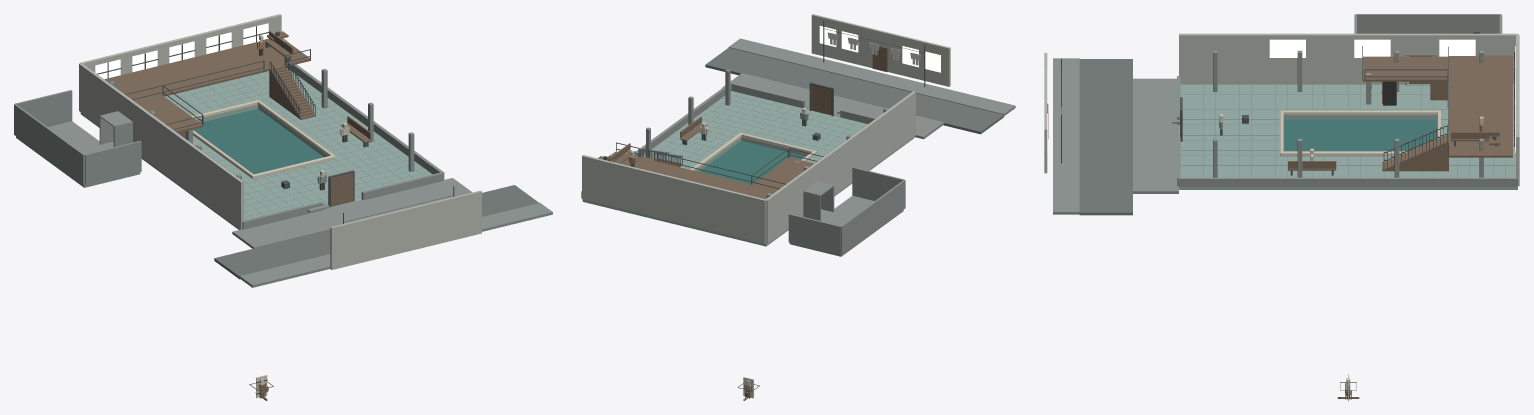
File: bath-faceless.glb
The picture shows the model from 3 angles, left to right: view 1: azimuth 30°, elevation 25°; view 2: azimuth 150°, elevation 25°; view 3: azimuth 270°, elevation 25°; orthographic projection. The views are drawn at different scales.
Visible parts, largest first — view 1: BathFloor, WestWall, LaundryFacade_Surface, PoolWater, FrontPavement, GalleryMainDeckSurface, ExteriorStreet, NorthWall, FarPavement, ServiceYardWestWall_Surface, ServiceYardSouthWall_Surface, EastCutawayWall (+8 smaller); view 2: NorthWall, BathFloor, WestWall, ExteriorStreet, LaundryFacade_Surface, FarPavement, PoolWater, FrontPavement, ServiceYardWestWall_Surface, ServiceYardNorthWall_Surface, GalleryMainDeckSurface, ServiceYardSouthWall_Surface (+6 smaller); view 3: BathFloor, WestWall, ExteriorStreet, FrontPavement, PoolWater, GalleryMainDeckSurface, FarPavement, EastCutawayWall, ServiceYardWestWall_Surface, GalleryWestCatwalkSurface, WorkshopCeilingSurface, PoolRim (+7 smaller).
Part boxes in pixels (x1,y1,x2,y2): BathFloor: [80, 68, 431, 229]; WestWall: [79, 63, 243, 229]; LaundryFacade_Surface: [330, 190, 481, 269]; PoolWater: [193, 109, 323, 174]; FrontPavement: [232, 178, 472, 248]; GalleryMainDeckSurface: [132, 38, 310, 96]; ExteriorStreet: [214, 185, 538, 279]; NorthWall: [79, 14, 281, 74]; FarPavement: [239, 203, 552, 287]; ServiceYardWestWall_Surface: [14, 104, 84, 185]; ServiceYardSouthWall_Surface: [84, 140, 141, 185]; EastCutawayWall: [287, 64, 444, 179]; NorthWall: [582, 155, 766, 243]; BathFloor: [582, 91, 914, 246]; WestWall: [765, 91, 915, 243]; ExteriorStreet: [705, 47, 1003, 134]; LaundryFacade_Surface: [811, 14, 950, 86]; FarPavement: [728, 38, 1015, 116]; PoolWater: [699, 141, 805, 184]; FrontPavement: [722, 73, 943, 139]; ServiceYardWestWall_Surface: [840, 180, 905, 254]; ServiceYardNorthWall_Surface: [788, 213, 840, 254]; GalleryMainDeckSurface: [608, 151, 751, 192]; ServiceYardSouthWall_Surface: [852, 167, 904, 200]; BathFloor: [1179, 84, 1517, 189]; WestWall: [1179, 33, 1517, 84]; ExteriorStreet: [1079, 59, 1132, 215]; FrontPavement: [1133, 78, 1178, 193]; PoolWater: [1283, 119, 1437, 151]; GalleryMainDeckSurface: [1449, 79, 1512, 157]; FarPavement: [1053, 58, 1079, 214]; EastCutawayWall: [1179, 177, 1517, 186]; ServiceYardWestWall_Surface: [1355, 14, 1500, 33]; GalleryWestCatwalkSurface: [1363, 56, 1448, 81]; WorkshopCeilingSurface: [1449, 55, 1512, 79]; PoolRim: [1280, 110, 1437, 115].
Size of the model in its own units: 32.45 by 28.57 by 39.28.
